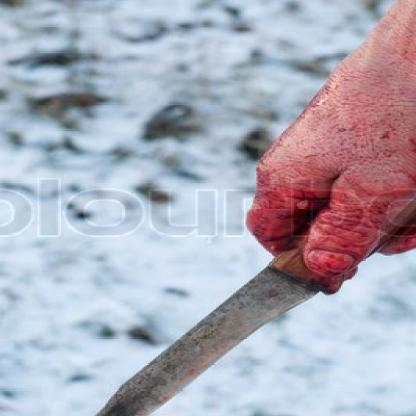knife: (33, 171, 414, 415)
